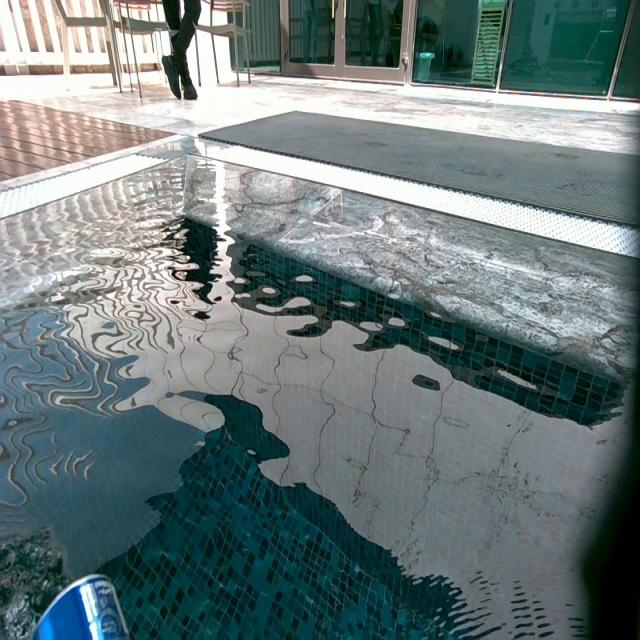Cans: (28, 569, 133, 636)
